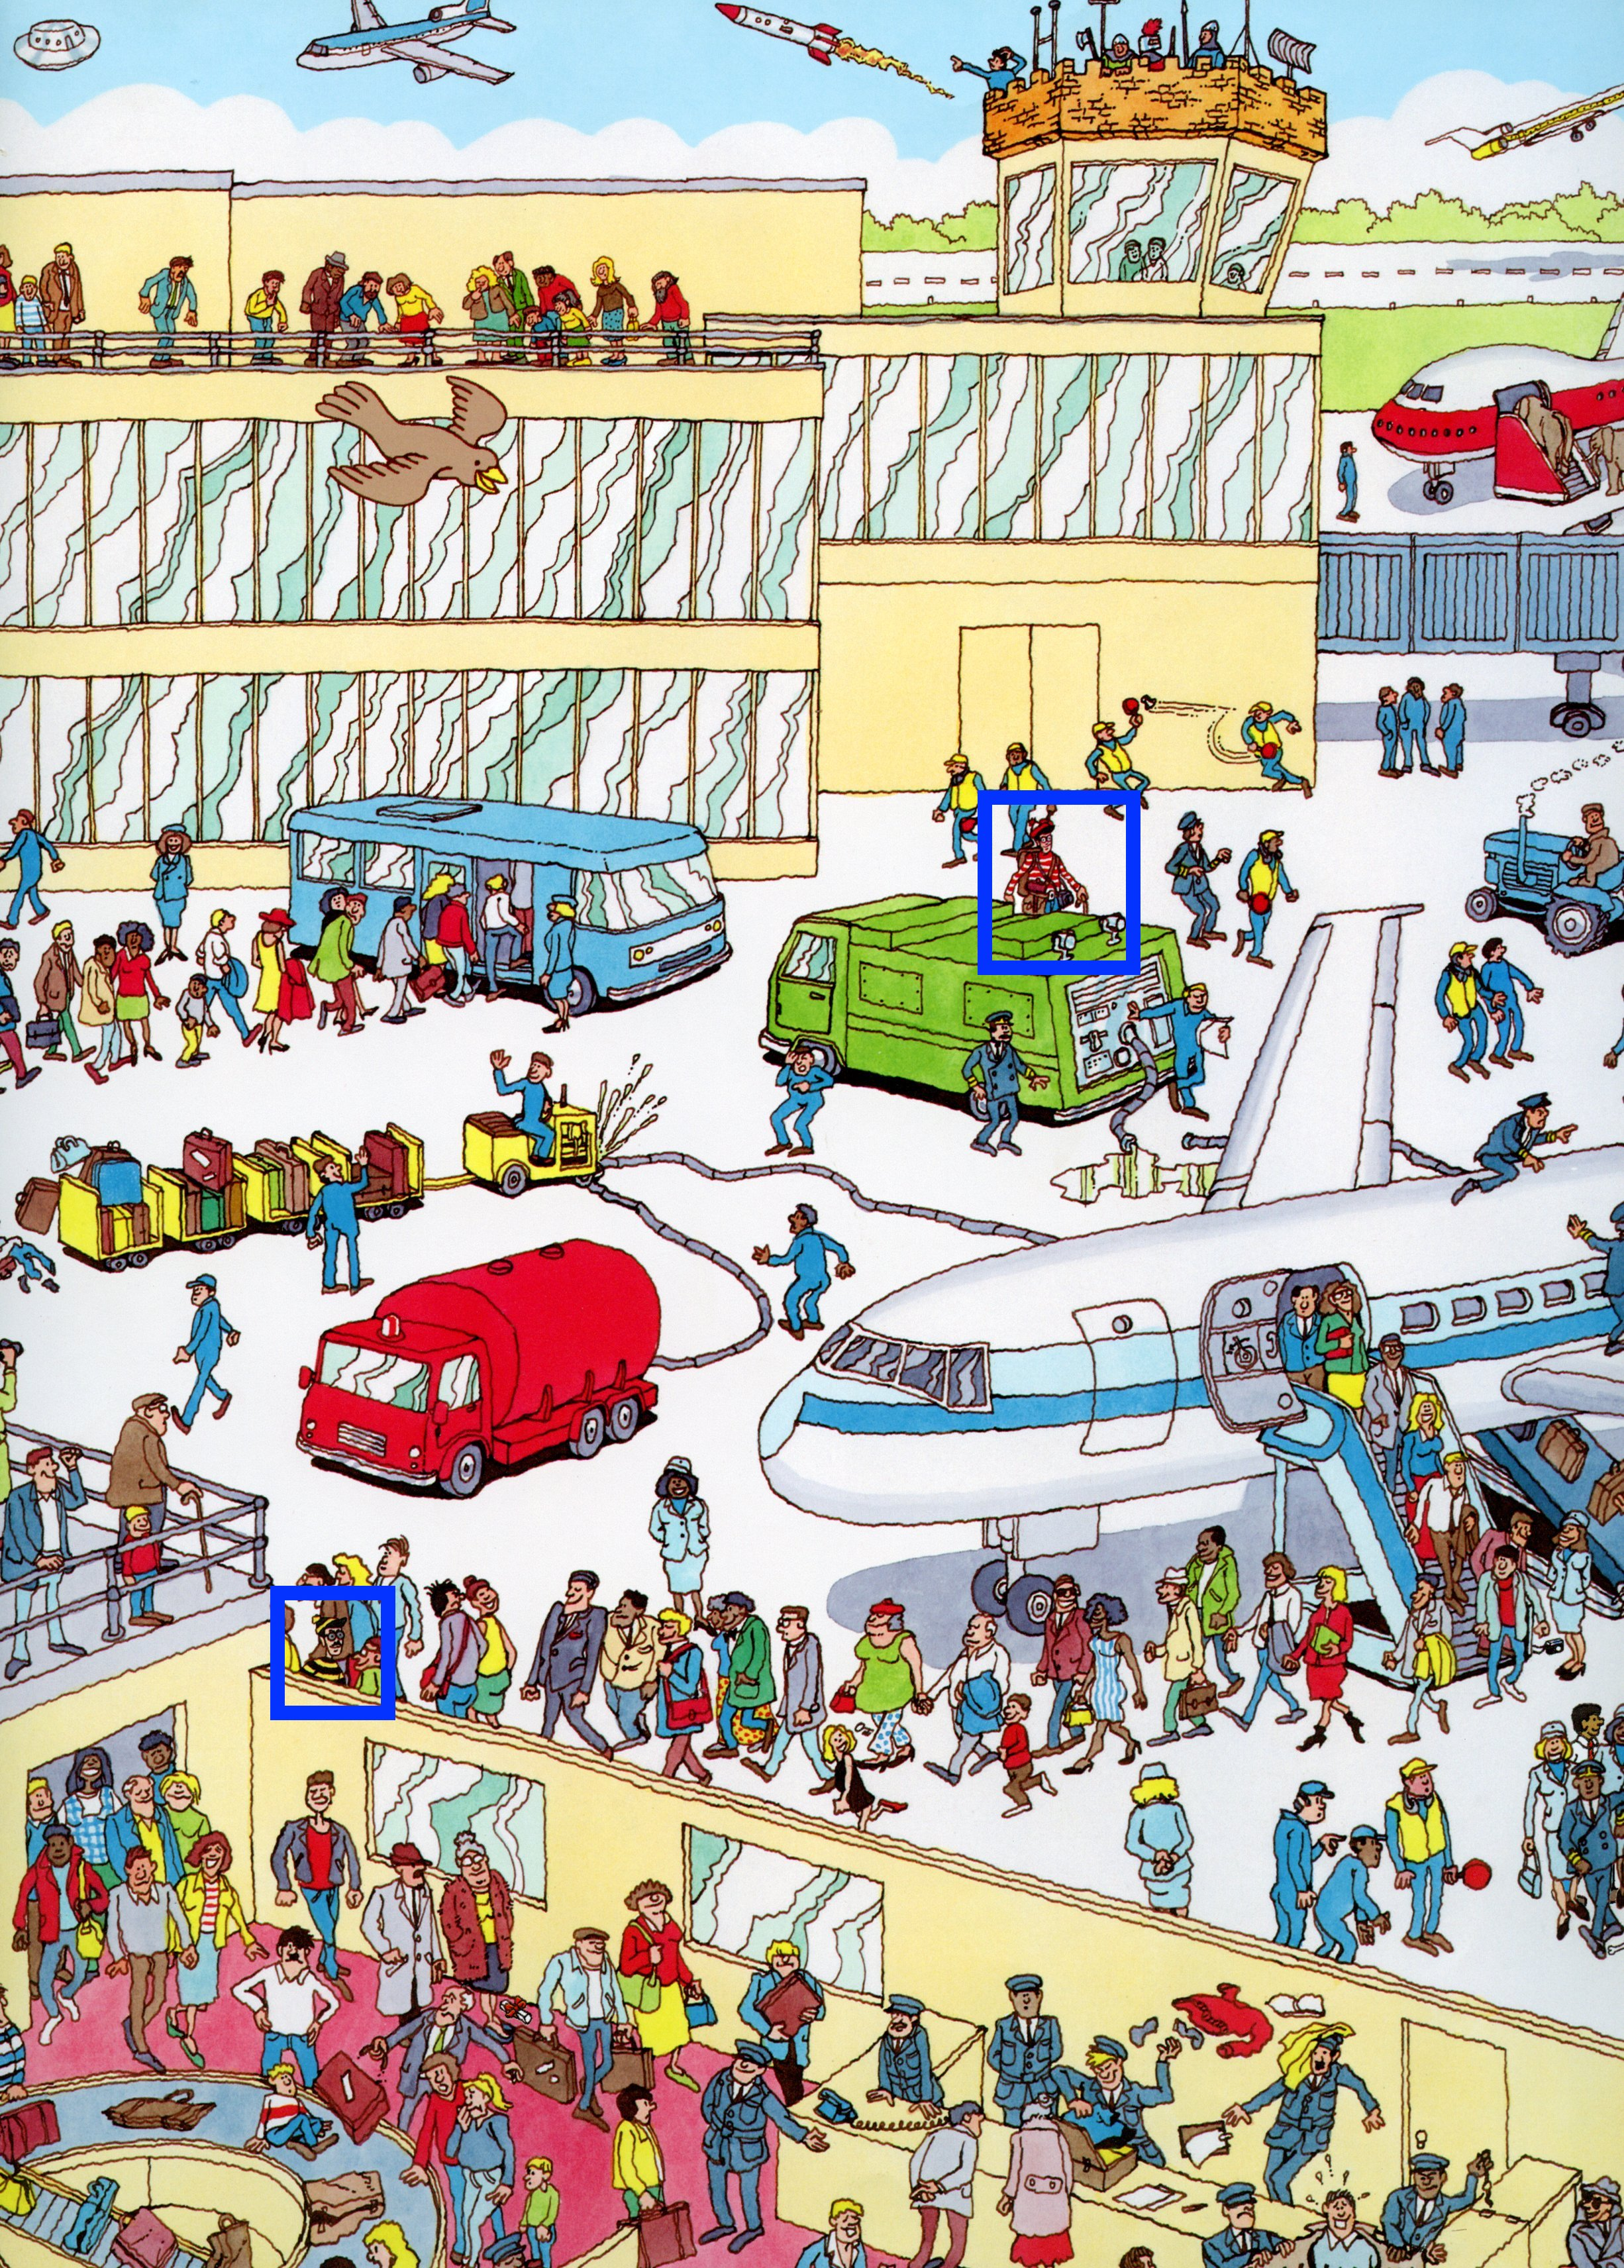odlaw: (283, 1588, 427, 1730)
waldo: (972, 798, 1172, 1000)
